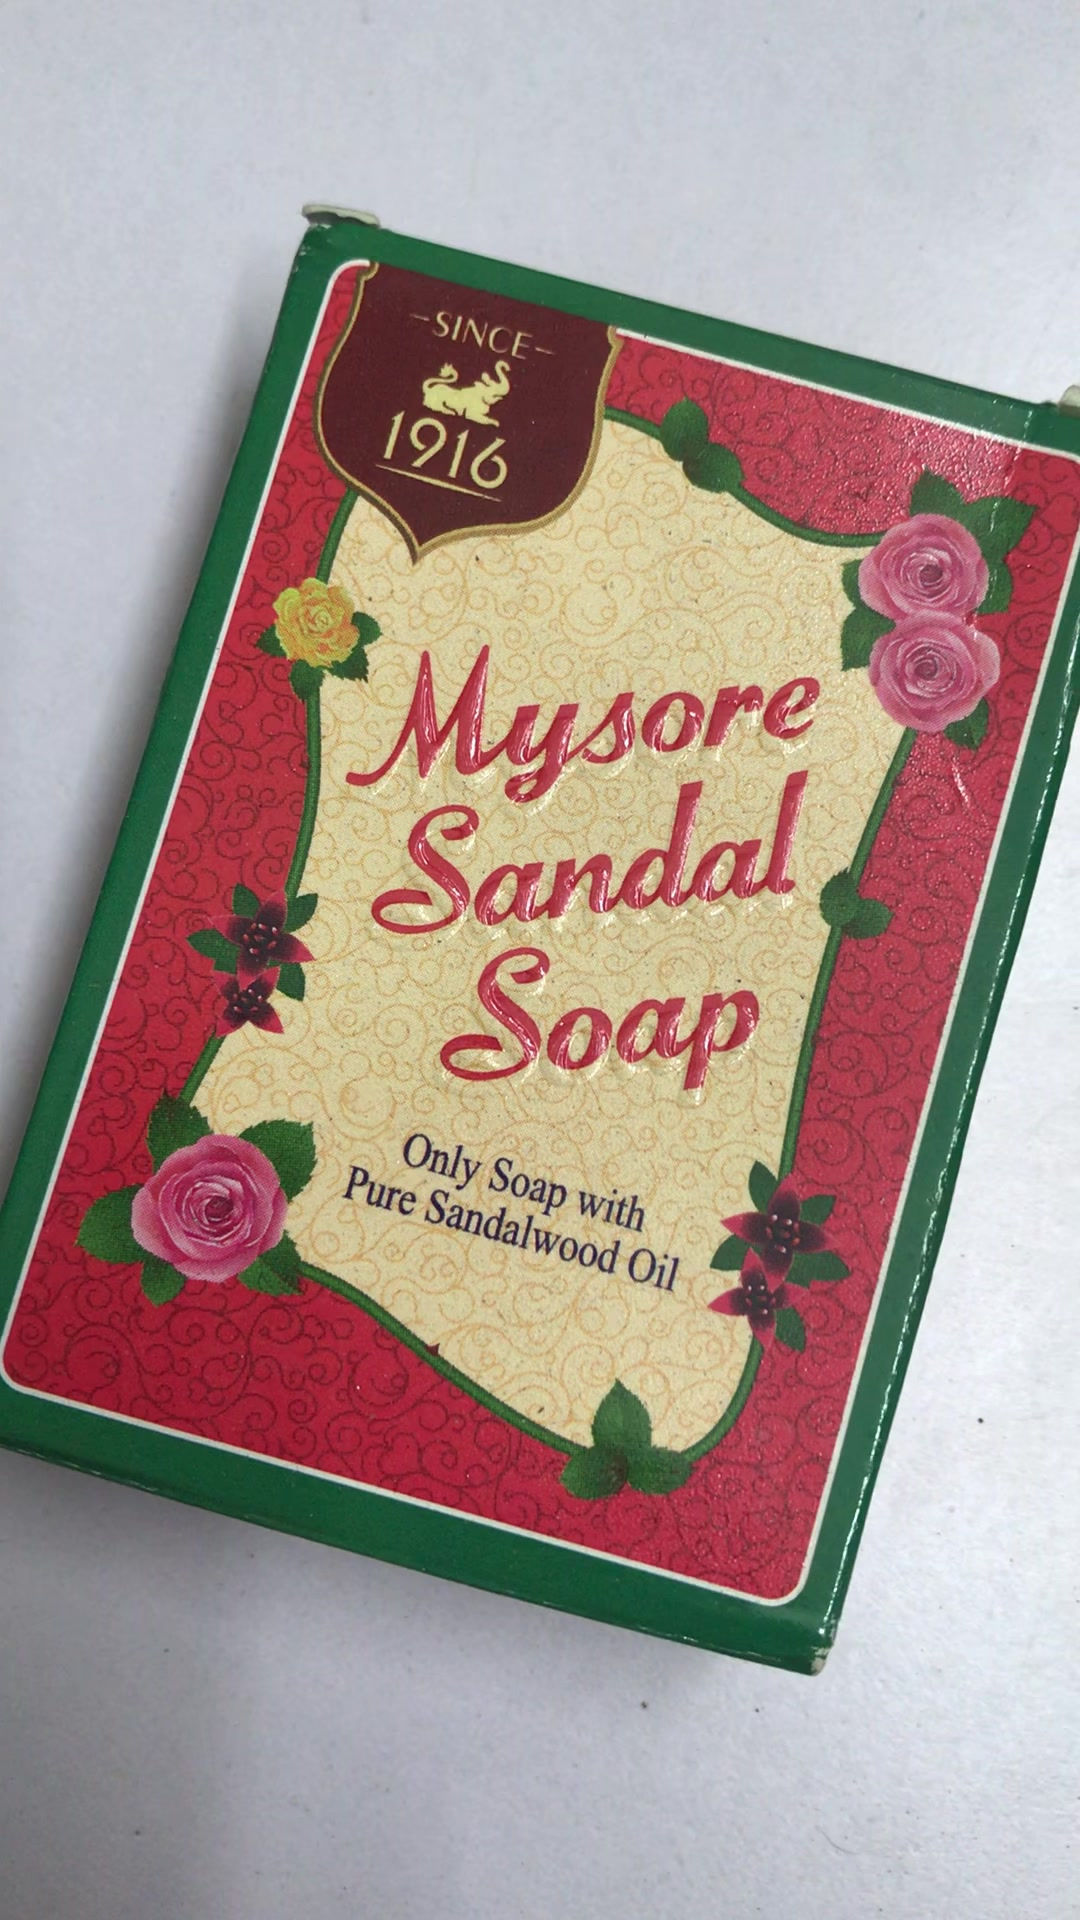mysore sandal soap: (1, 200, 1073, 1677)
